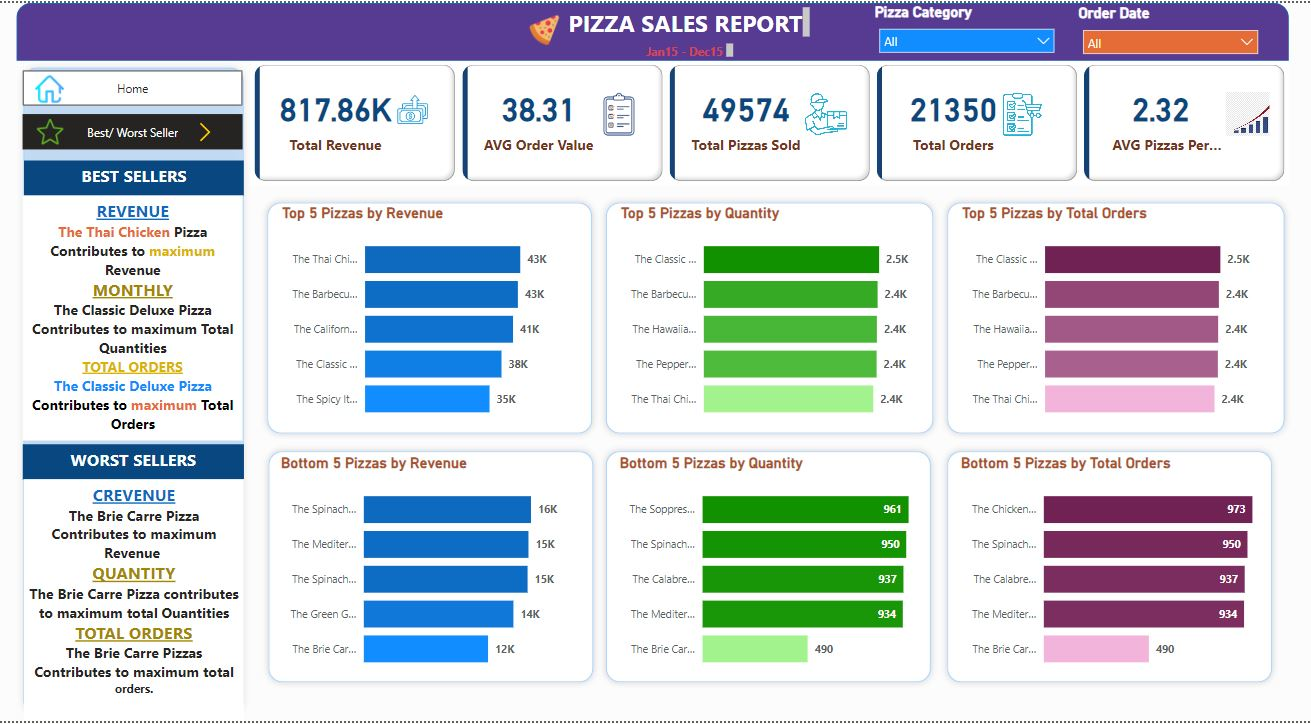

What the dashboard file says about the page in this screenshot:
{"tool":"powerbi","page":{"name":"Best/ Worst Seller","canvas":[1500,820],"ordinal":1},"visuals":[{"type":"cardVisual","fields":{"Data":["pizza_sales.Total Revenue","pizza_sales.AVG Order Value","pizza_sales.Total Pizzas Sold","pizza_sales.Total Orders","pizza_sales.AVG Pizzas Per Order"]},"box":[286.7,65,1188.3,143.3],"z":0},{"type":"shape","box":[20,0,1454,66],"z":1000},{"type":"textbox","box":[646,0,286,44],"z":2000},{"type":"textbox","box":[733.8,41.2,110,25],"z":3000},{"type":"image","box":[600,8.3,46.7,45],"z":4000},{"type":"shape","box":[298.6,220,387.1,280],"z":5000},{"type":"shape","box":[685.7,220,390,280],"z":6000},{"type":"shape","box":[1075.7,220,401.4,280],"z":7000},{"type":"shape","box":[20,65,267.5,755],"z":8000},{"type":"textbox","box":[28.6,180,251.4,40],"z":9000},{"type":"textbox","box":[27.1,220,251.4,280],"z":10000},{"type":"textbox","box":[27.1,504.3,252.9,40],"z":11000},{"type":"textbox","box":[28.6,544.3,251.4,275.7],"z":12000},{"type":"slicer","title":"Order Date","fields":{"Values":["pizza_sales.order_date"]},"box":[1228.3,1.7,220,65],"z":13000},{"type":"slicer","title":"Pizza Category","fields":{"Values":["pizza_sales.pizza_category"]},"box":[995,0,220,65],"z":14000},{"type":"shape","box":[300,504.3,387.1,280],"z":15000},{"type":"shape","box":[685.7,504.3,387.1,280],"z":16000},{"type":"shape","box":[1075.7,504.3,387.1,280],"z":17000},{"type":"barChart","title":"Top 5 Pizzas by Revenue","fields":{"Category":["pizza_sales.pizza_name"],"Y":["pizza_sales.Total Revenue"]},"box":[318.6,230,350,260],"z":18000},{"type":"barChart","title":"Bottom 5 Pizzas by Revenue","fields":{"Category":["pizza_sales.pizza_name"],"Y":["pizza_sales.Total Revenue"]},"box":[317.1,515.7,350,260],"z":19000},{"type":"barChart","title":"Top 5 Pizzas by Quantity","fields":{"Category":["pizza_sales.pizza_name"],"Y":["pizza_sales.Total Pizzas Sold"]},"box":[705.7,230,350,260],"z":20000},{"type":"barChart","title":"Bottom 5 Pizzas by Quantity","fields":{"Category":["pizza_sales.pizza_name"],"Y":["pizza_sales.Total Pizzas Sold"]},"box":[704.3,515.7,350,260],"z":21000},{"type":"barChart","title":"Top 5 Pizzas by Total Orders","fields":{"Category":["pizza_sales.pizza_name"],"Y":["pizza_sales.Total Pizzas Sold"]},"box":[1095.7,230,350,260],"z":22000},{"type":"barChart","title":"Bottom 5 Pizzas by Total Orders","fields":{"Category":["pizza_sales.pizza_name"],"Y":["pizza_sales.Total Pizzas Sold"]},"box":[1094.3,515.7,350,260],"z":23000},{"type":"pageNavigator","box":[27.1,77.1,251.4,40],"z":23001},{"type":"pageNavigator","box":[27.1,127.1,251.4,40],"z":23002},{"type":"image","box":[220,127.1,31.4,40],"z":23003},{"type":"image","box":[28.6,77.1,58.6,42.9],"z":23004},{"type":"image","box":[20,127.1,77.1,40],"z":23005}]}

Visuals, with their boxes in screenshot pixels (x1, y1, x2, y2), scaled from the page's 1500x820 canvas onto the 1311x724 screenshot:
cardVisual - pizza_sales.Total Revenue x pizza_sales.AVG Order Value: region(251, 57, 1289, 184)
shape: region(17, 0, 1288, 58)
textbox: region(565, 0, 815, 39)
textbox: region(641, 36, 737, 58)
image: region(524, 7, 565, 47)
shape: region(261, 194, 599, 441)
shape: region(599, 194, 940, 441)
shape: region(940, 194, 1291, 441)
shape: region(17, 57, 251, 723)
textbox: region(25, 159, 245, 194)
textbox: region(24, 194, 243, 441)
textbox: region(24, 445, 245, 481)
textbox: region(25, 481, 245, 723)
"Order Date" slicer: region(1074, 2, 1266, 59)
"Pizza Category" slicer: region(870, 0, 1062, 57)
shape: region(262, 445, 601, 692)
shape: region(599, 445, 938, 692)
shape: region(940, 445, 1278, 692)
"Top 5 Pizzas by Revenue" barChart: region(278, 203, 584, 433)
"Bottom 5 Pizzas by Revenue" barChart: region(277, 455, 583, 685)
"Top 5 Pizzas by Quantity" barChart: region(617, 203, 923, 433)
"Bottom 5 Pizzas by Quantity" barChart: region(616, 455, 921, 685)
"Top 5 Pizzas by Total Orders" barChart: region(958, 203, 1264, 433)
"Bottom 5 Pizzas by Total Orders" barChart: region(956, 455, 1262, 685)
pageNavigator: region(24, 68, 243, 103)
pageNavigator: region(24, 112, 243, 148)
image: region(192, 112, 220, 148)
image: region(25, 68, 76, 106)
image: region(17, 112, 85, 148)
